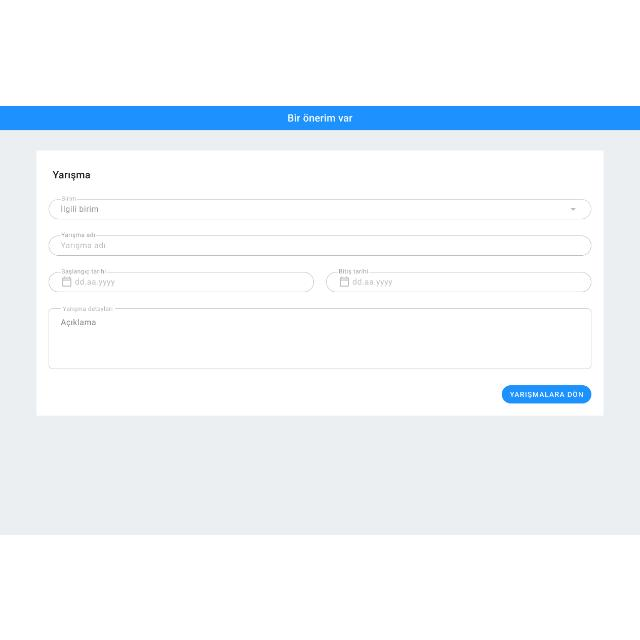QLabel: (286, 111, 352, 122), (508, 390, 584, 398), (50, 168, 92, 180)
VAppBar: (0, 105, 640, 129)
VBtn: (501, 383, 591, 402)
VCard: (36, 148, 604, 416)
VCombobox: (49, 194, 592, 220)
VInlineDatepicker: (326, 266, 590, 292), (49, 268, 314, 292)
VTextField: (49, 231, 591, 255)
VTextarea: (48, 304, 592, 368)
